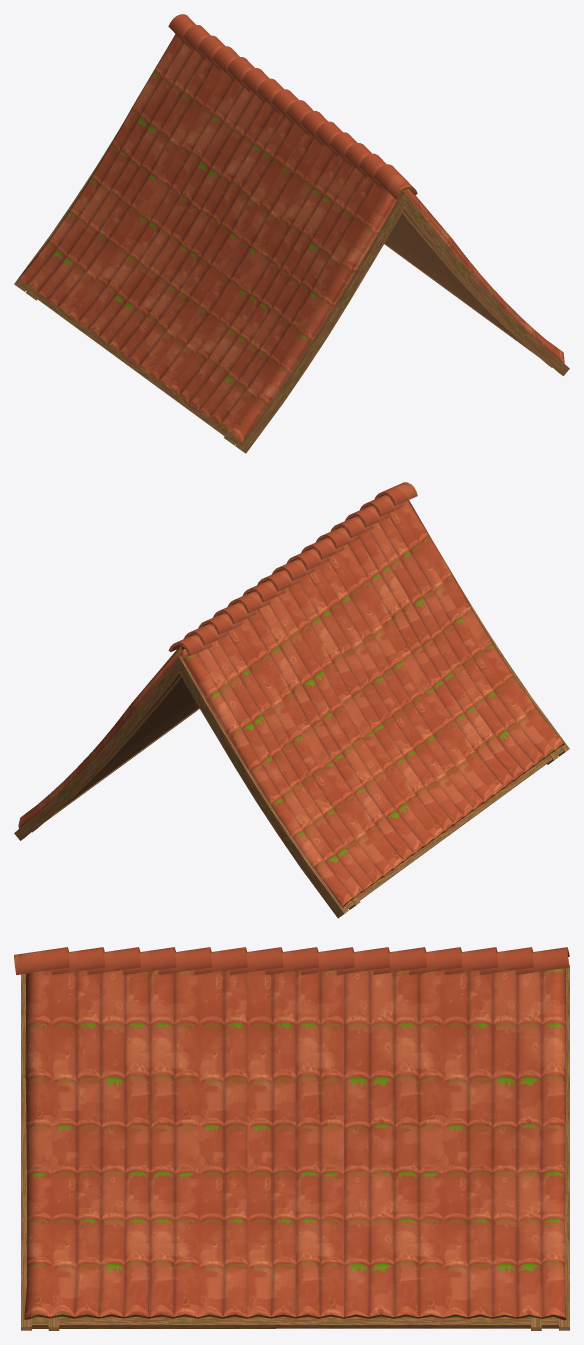
The model's file is roof_large.glb.
The picture shows the model from 3 angles, top to bottom: view 1: azimuth 30°, elevation 25°; view 2: azimuth 150°, elevation 25°; view 3: azimuth 270°, elevation 25°; orthographic projection. The views are drawn at different scales.
Parts seen in each view (by area): view 1: Roof_RoundTiles_8x10; view 2: Roof_RoundTiles_8x10; view 3: Roof_RoundTiles_8x10.
Boxes of the visible parts, left/top/right/bottom form: Roof_RoundTiles_8x10: left=14, top=14, right=569, bottom=453; Roof_RoundTiles_8x10: left=14, top=482, right=569, bottom=918; Roof_RoundTiles_8x10: left=14, top=947, right=569, bottom=1330.
Bounding box in the file's own units: 4.55 × 3.1 × 5.42.
2 materials, 2 textured.
